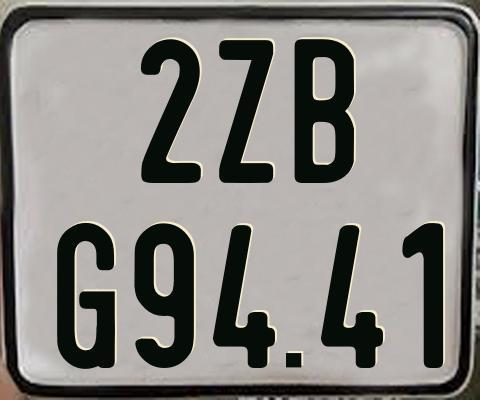1: (402, 222, 445, 370)
2: (140, 36, 206, 185)
4: (210, 222, 276, 368), (321, 222, 383, 367)
9: (133, 221, 198, 369)
B: (293, 36, 358, 181)
G: (55, 222, 116, 368)
Z: (219, 39, 274, 184)
